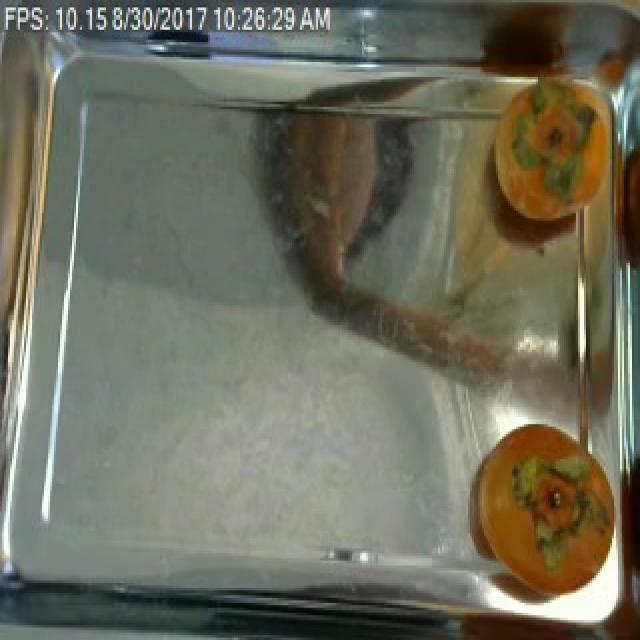Fruit: (452, 404, 624, 620), (254, 89, 410, 293)
